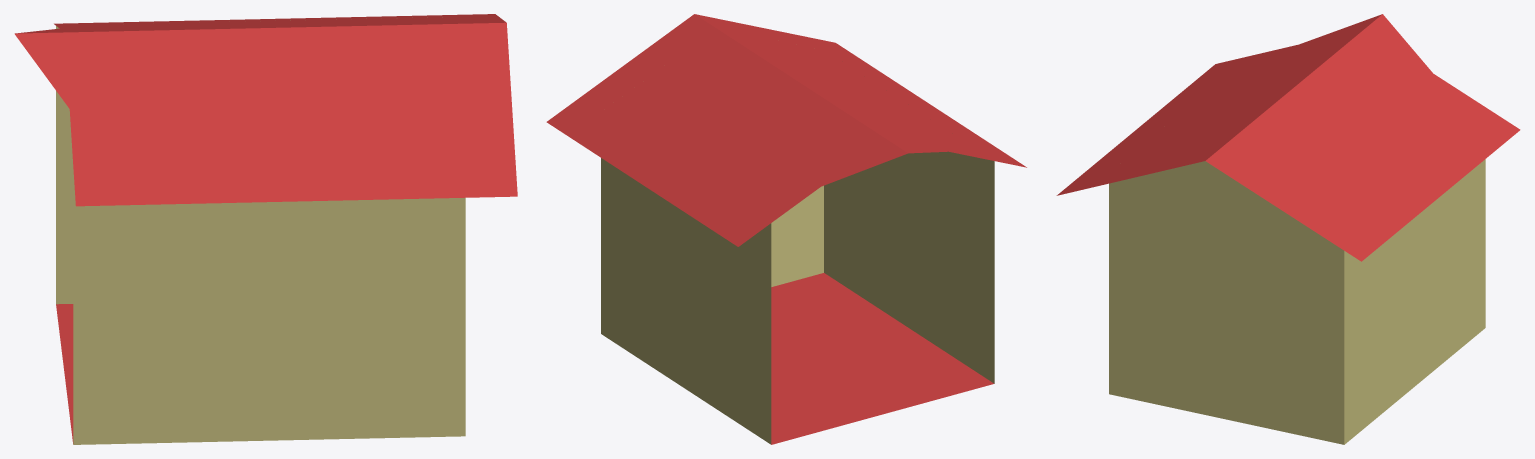
3 renders of one model, left to right at view 1: azimuth 30°, elevation 25°; view 2: azimuth 150°, elevation 25°; view 3: azimuth 270°, elevation 25°, orthographic. The views are drawn at different scales.
Bounding box in the file's own units: 11.9 × 11.81 × 7.65.
